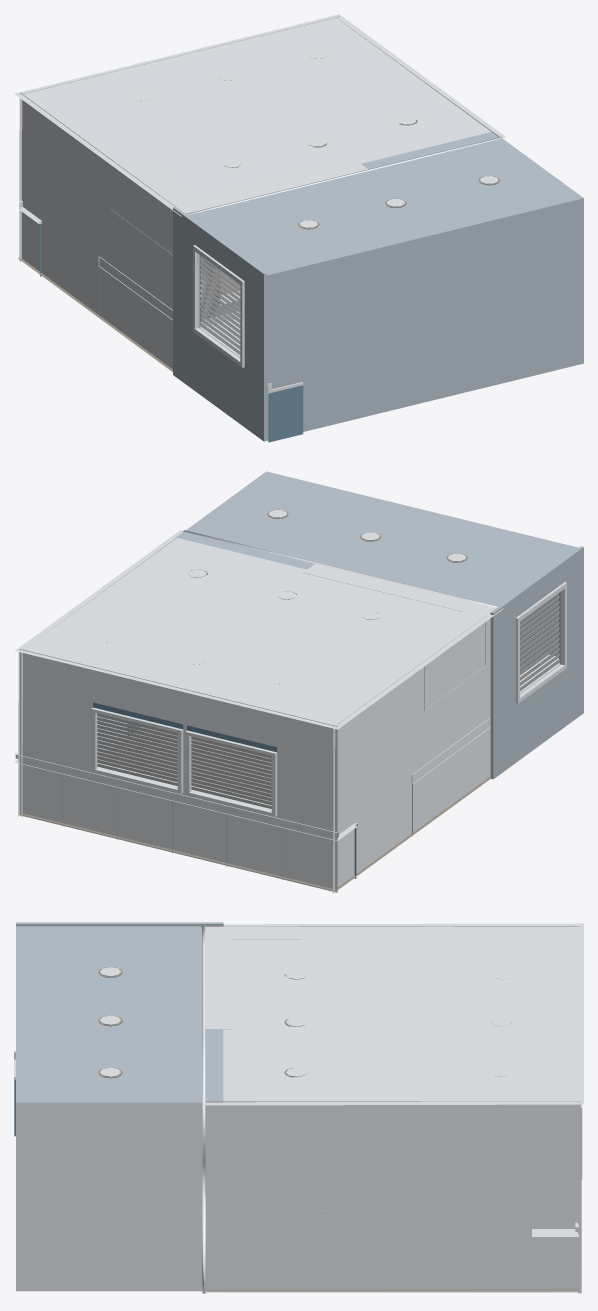
Rendered from Roomtest2 (1).fbx.
3 renders of one model, top to bottom at view 1: azimuth 30°, elevation 25°; view 2: azimuth 150°, elevation 25°; view 3: azimuth 270°, elevation 25°, orthographic. The views are drawn at different scales.
Visible parts, largest first — view 1: ight, pCube1, Sinks.003, Shelf; view 2: pCube1, ight, pCube31, pCube31.001, Sinks.003, Sinks.006, pCube4; view 3: pCube4, pCube1, Wall.002, ight, Sinks.003.
Boxes of the visible parts, <box> form: ight: <box>173,132,583,441</box>; pCube1: <box>14,14,505,371</box>; Sinks.003: <box>111,160,367,255</box>; Shelf: <box>200,311,303,442</box>; pCube1: <box>15,530,503,893</box>; ight: <box>176,471,583,779</box>; pCube31: <box>185,725,277,816</box>; pCube31.001: <box>91,702,183,793</box>; Sinks.003: <box>303,563,495,711</box>; Sinks.006: <box>14,753,357,879</box>; pCube4: <box>21,532,184,816</box>; pCube4: <box>206,1101,580,1292</box>; pCube1: <box>201,923,583,1293</box>; Wall.002: <box>16,1102,226,1291</box>; ight: <box>16,922,223,1102</box>; Sinks.003: <box>205,927,343,1029</box>.
Size of the model in its own units: 618 by 303 by 812.
